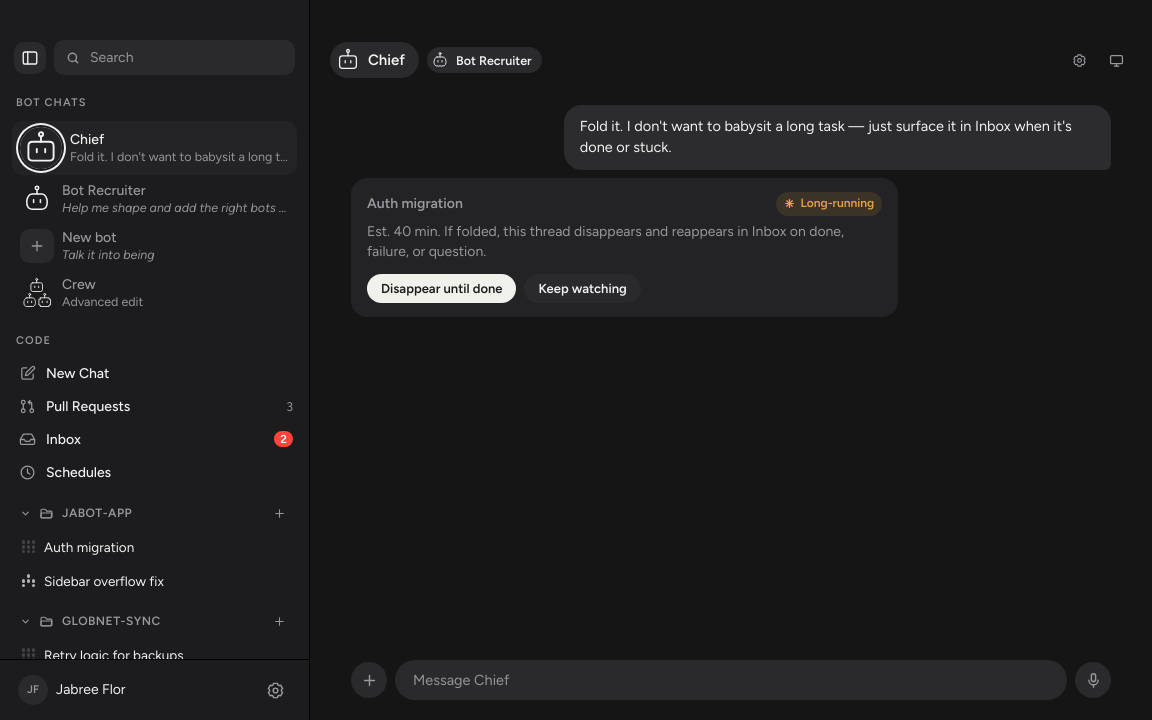
Test case: App › folds a thread from Chief's card and finds it asleep in the Inbox
This screenshot has width=1152, height=720.
(page scrolled)
Check: the button named "Settings" is shown, box [259,674,291,706]
Check: the button "Auth migration" is shown, box [14,531,295,563]
Click the button "Disappear until done" at x=442, y=289, box [367,274,516,303]
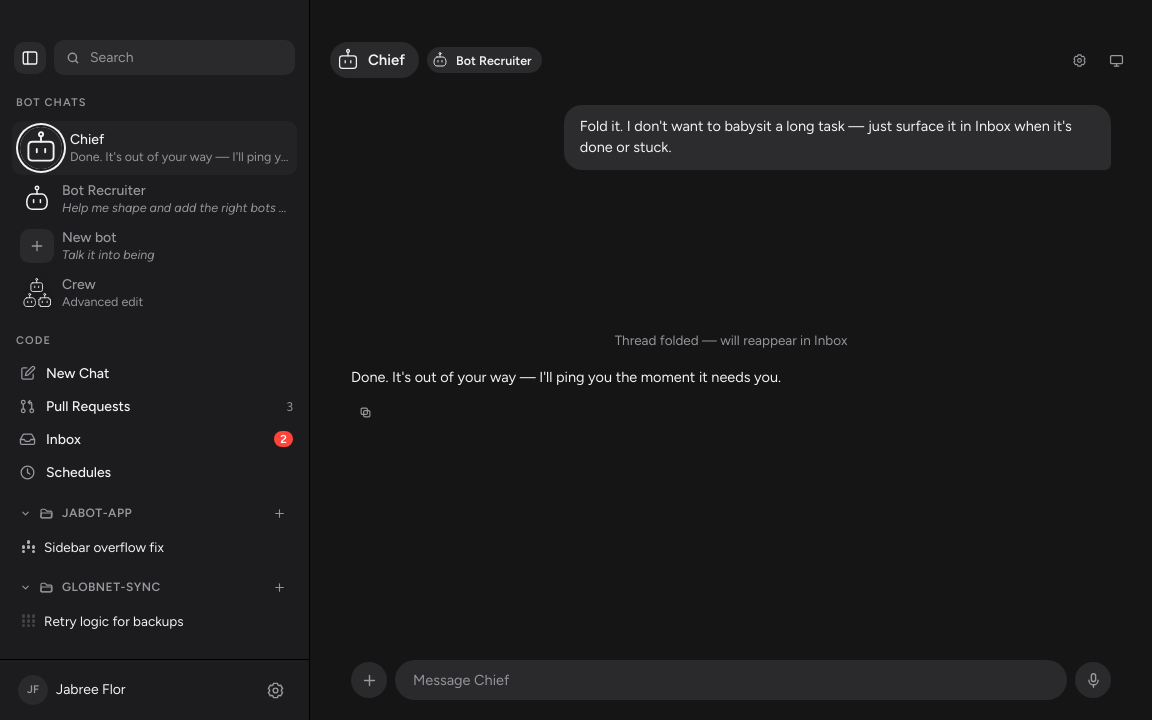
Check: the text "Thread folded — will reappear in Inbox" is shown, box [615,332,847,348]
Click the button with aria-label "Inbox —" at x=63, y=439, box [8,423,301,456]
(page scrolled)
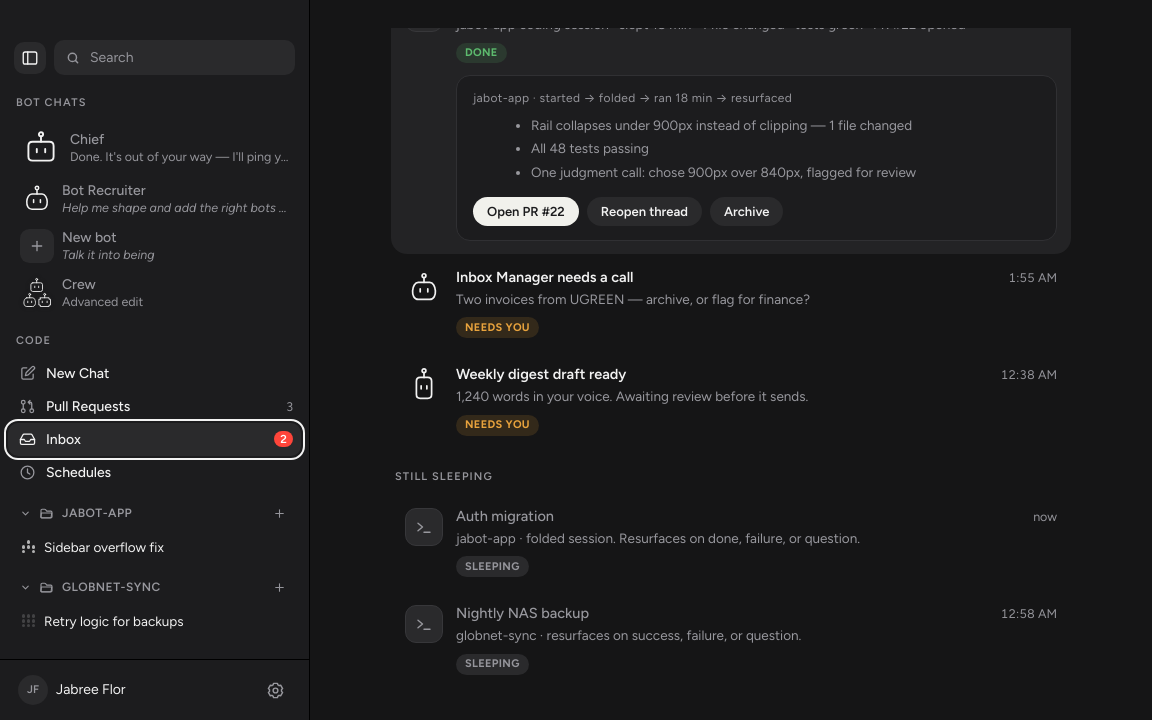
Check: the 1st text "SLEEPING" is shown, box [456,556,529,577]
